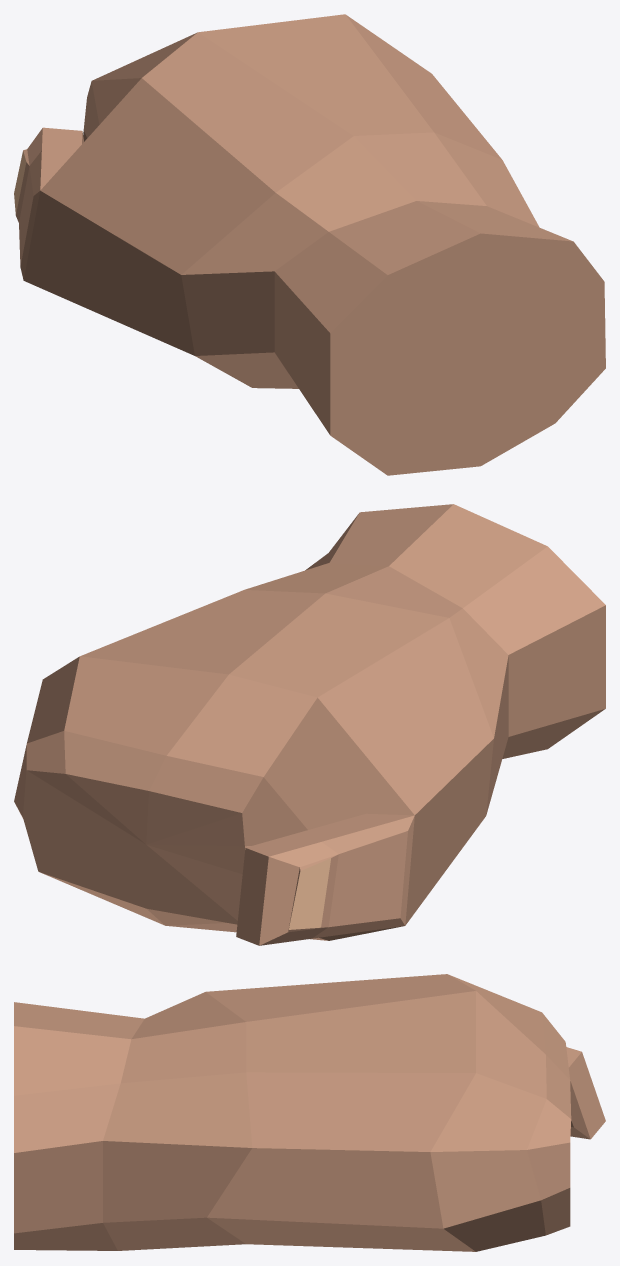
File: ShortRightHand.fbx
The picture shows the model from 3 angles, top to bottom: view 1: azimuth 30°, elevation 25°; view 2: azimuth 150°, elevation 25°; view 3: azimuth 270°, elevation 25°; orthographic projection. The views are drawn at different scales.
Visible parts, largest first — view 1: Circle.062; view 2: Circle.062; view 3: Circle.062.
Boxes of the visible parts, box(x1,y1,x2,y2) form: Circle.062: box(14, 14, 605, 475); Circle.062: box(14, 504, 605, 945); Circle.062: box(14, 974, 605, 1251).
Size of the model in its own units: 231 by 144 by 328.
